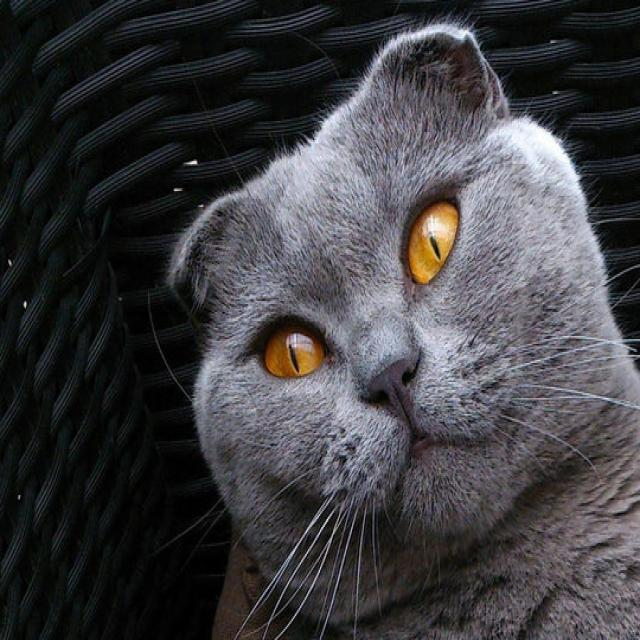Scottish Fold: (161, 14, 640, 640)
